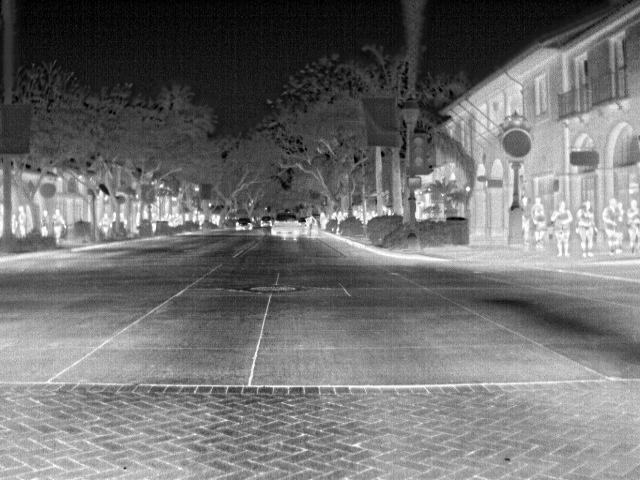car: (272, 212, 301, 238), (234, 214, 254, 234), (258, 214, 274, 228)
person: (548, 199, 571, 258), (576, 197, 596, 258), (602, 197, 622, 257), (528, 196, 546, 252), (625, 195, 638, 255), (49, 206, 66, 246), (16, 204, 28, 238), (99, 211, 112, 238)
